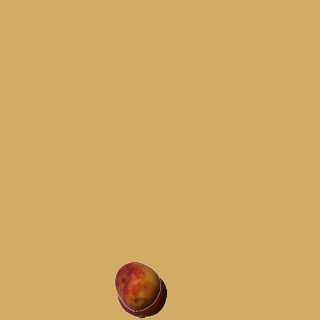Apple Braeburn: (116, 268, 166, 318)
Peach: (112, 261, 162, 311)
